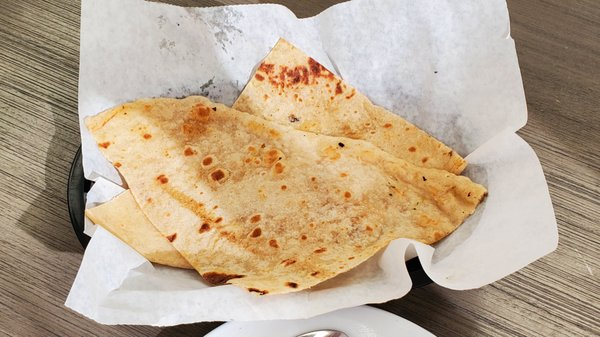curry: (37, 1, 599, 331)
